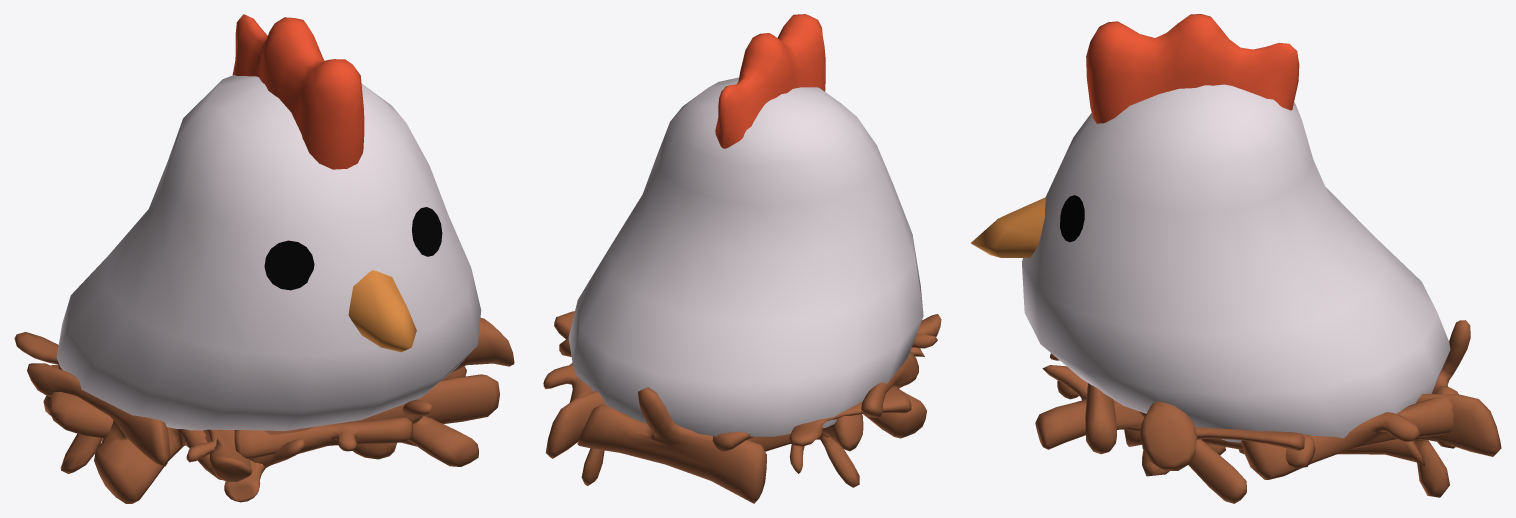
The model's file is ChickenHat (6).fbx.
3 views of the same model, side by side, from view 1: azimuth 30°, elevation 25°; view 2: azimuth 150°, elevation 25°; view 3: azimuth 270°, elevation 25° (orthographic). The views are drawn at different scales.
Parts seen in each view (by area): view 1: Nest; view 2: Nest; view 3: Nest.
Part boxes in pixels (x1,y1,x2,y2): Nest: (14,14,514,503); Nest: (543,14,941,503); Nest: (971,14,1501,503).
Bounding box in the file's own units: 28.85 × 31.46 × 34.21.
